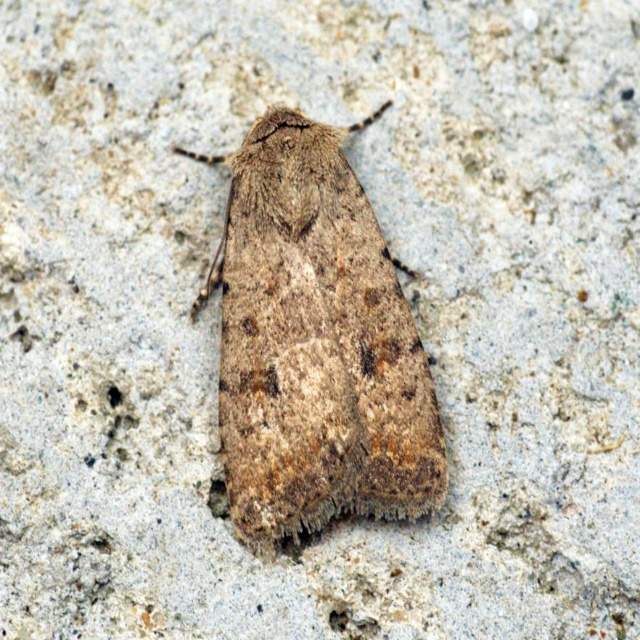Moths and butterflies: (171, 96, 450, 551)
